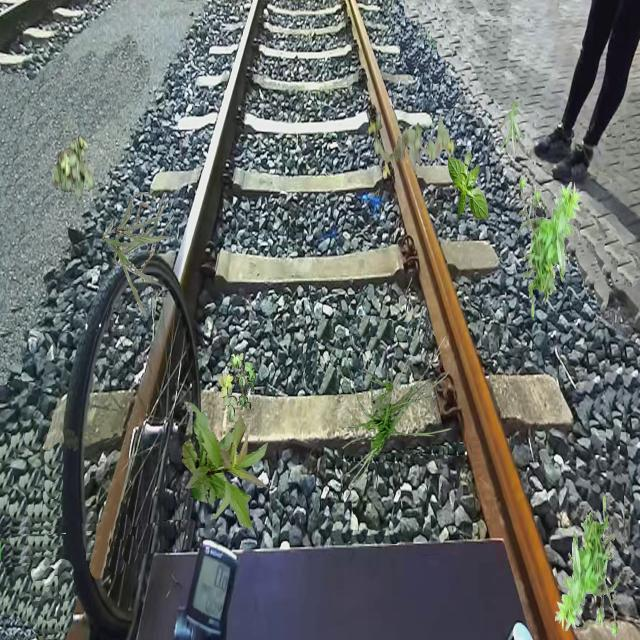Plant: (335, 335, 453, 498), (182, 401, 270, 531), (555, 495, 620, 638), (518, 174, 582, 318), (102, 192, 175, 316), (368, 111, 454, 180), (448, 151, 490, 222), (52, 134, 96, 200), (219, 349, 256, 422), (499, 101, 526, 158)
